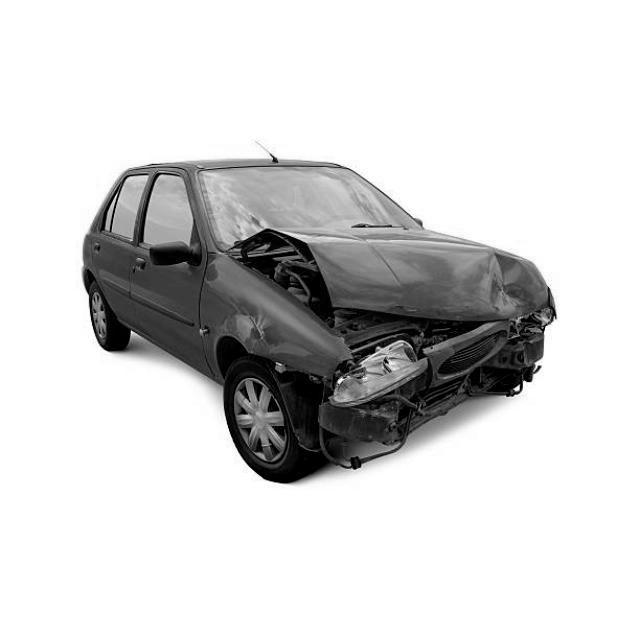Headlight-damage: (333, 328, 417, 409), (501, 294, 555, 352)
bonnet-dent: (244, 231, 563, 328)
front-bumper-dent: (333, 375, 519, 430)
